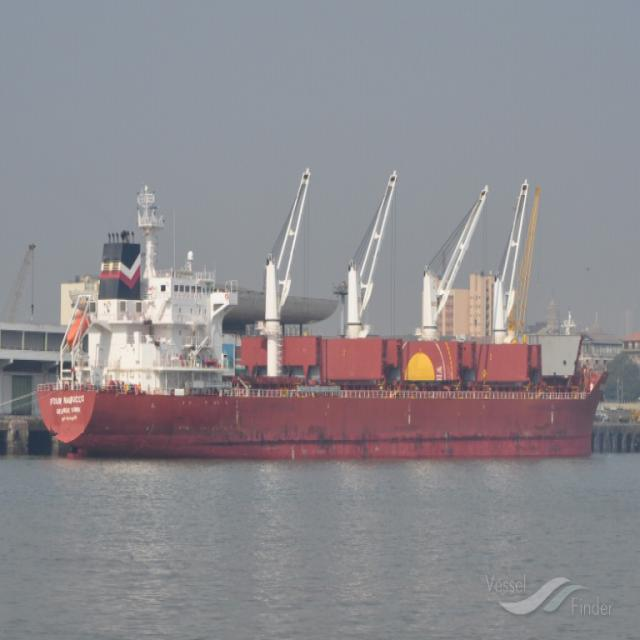OCR: (46, 392, 84, 437)
